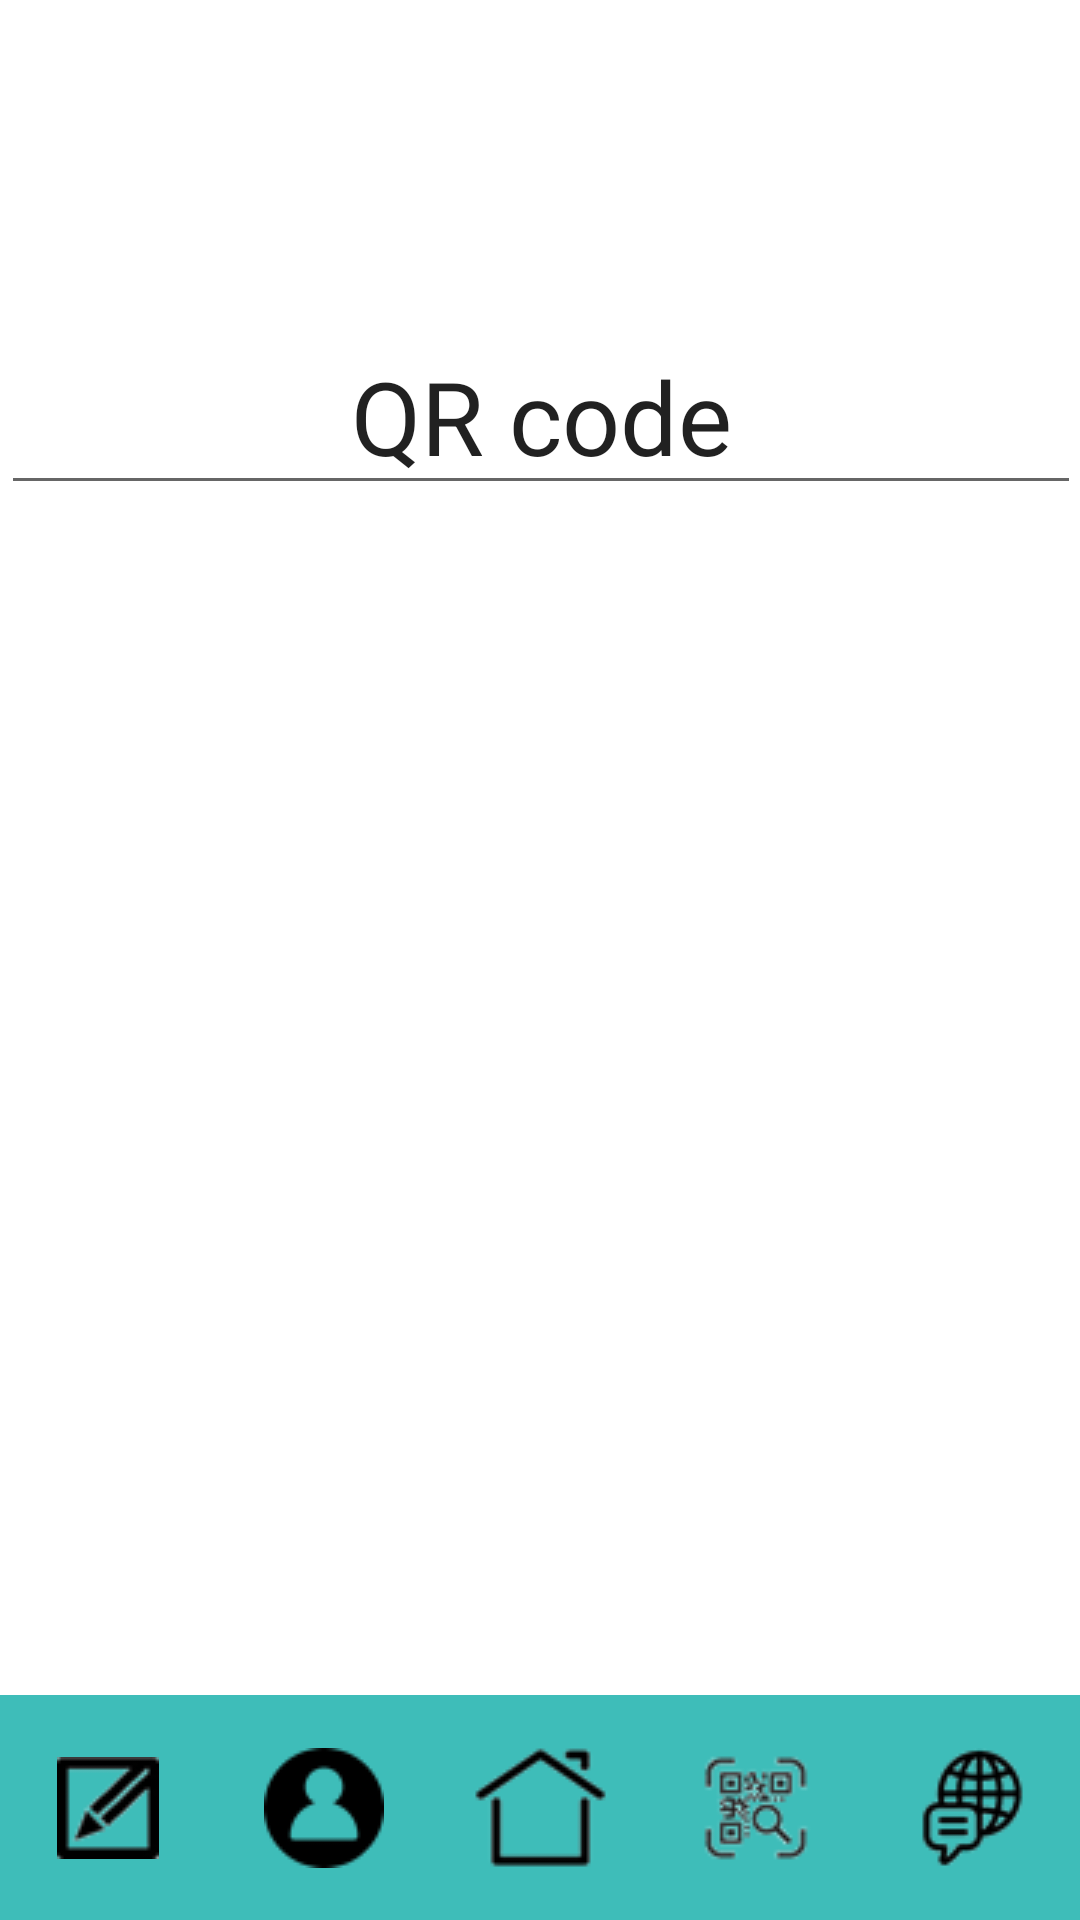

Icons on this 1080 x 1920 Android screen, each with the point to tap as point (x, y):
contacts: point (324, 1808)
edit: point (108, 1808)
home: point (540, 1807)
language: point (972, 1808)
